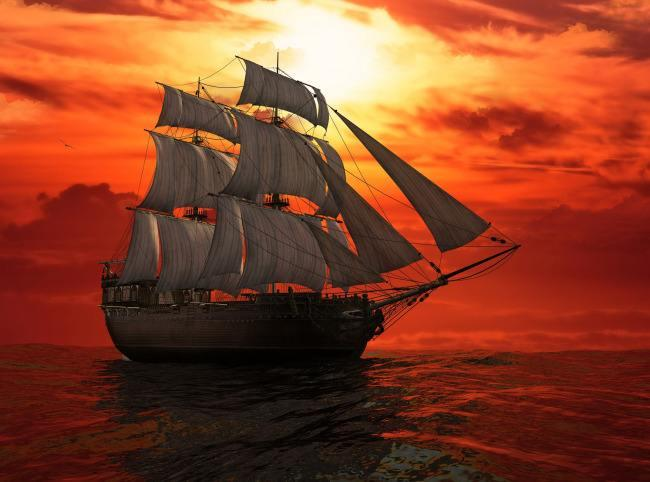fanchuan: (96, 39, 527, 367)
